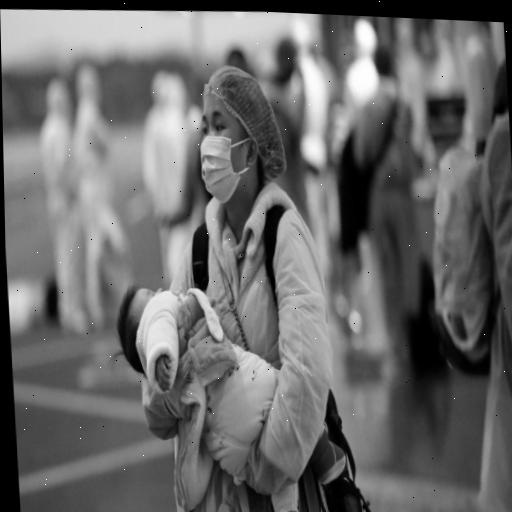mask: (186, 50, 289, 217)
